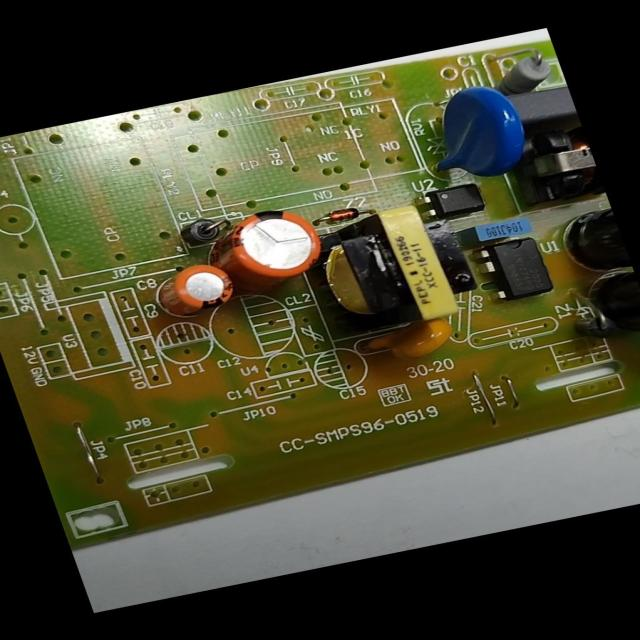Cap1: (210, 200, 334, 287)
Cap2: (163, 256, 240, 313)
Cap3: (554, 203, 632, 280)
Cap4: (580, 270, 640, 346)
MOSFET: (472, 233, 558, 302)
Mov: (410, 78, 539, 186)
Resistor: (491, 49, 559, 96)
Transformer: (298, 193, 486, 344), (495, 125, 605, 210)
